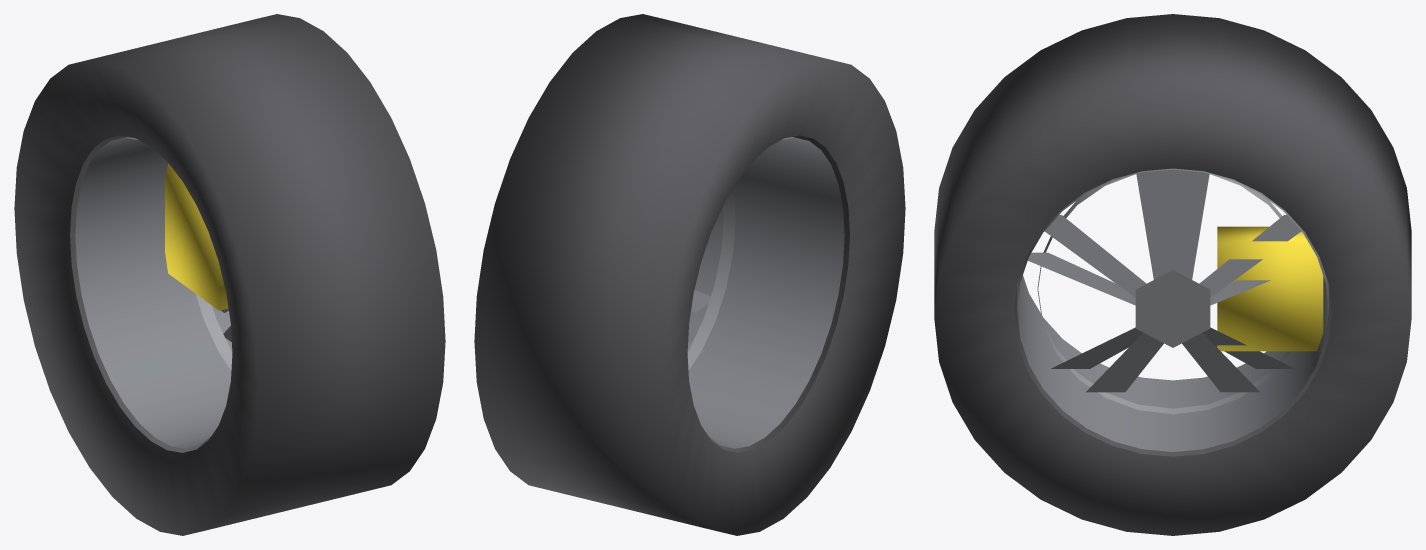
File: lamborghini_wheel.glb
3 renders of one model, left to right at view 1: azimuth 30°, elevation 25°; view 2: azimuth 150°, elevation 25°; view 3: azimuth 270°, elevation 25°, orthographic. The views are drawn at different scales.
Visible parts, largest first — view 1: Lamborghini_Wheel; view 2: Lamborghini_Wheel; view 3: Lamborghini_Wheel.
Part boxes in pixels (box(x1,y1,x2,y2)): Lamborghini_Wheel: box(14, 14, 445, 535); Lamborghini_Wheel: box(474, 14, 905, 535); Lamborghini_Wheel: box(934, 14, 1411, 535).
Size of the model in its own units: 0.32 by 0.72 by 0.72.
